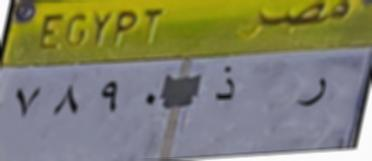0: (136, 82, 168, 116)
7: (8, 80, 46, 120)
8: (48, 75, 84, 122)
9: (92, 72, 128, 117)
raa: (287, 70, 338, 121)
zaal: (207, 61, 244, 107)
